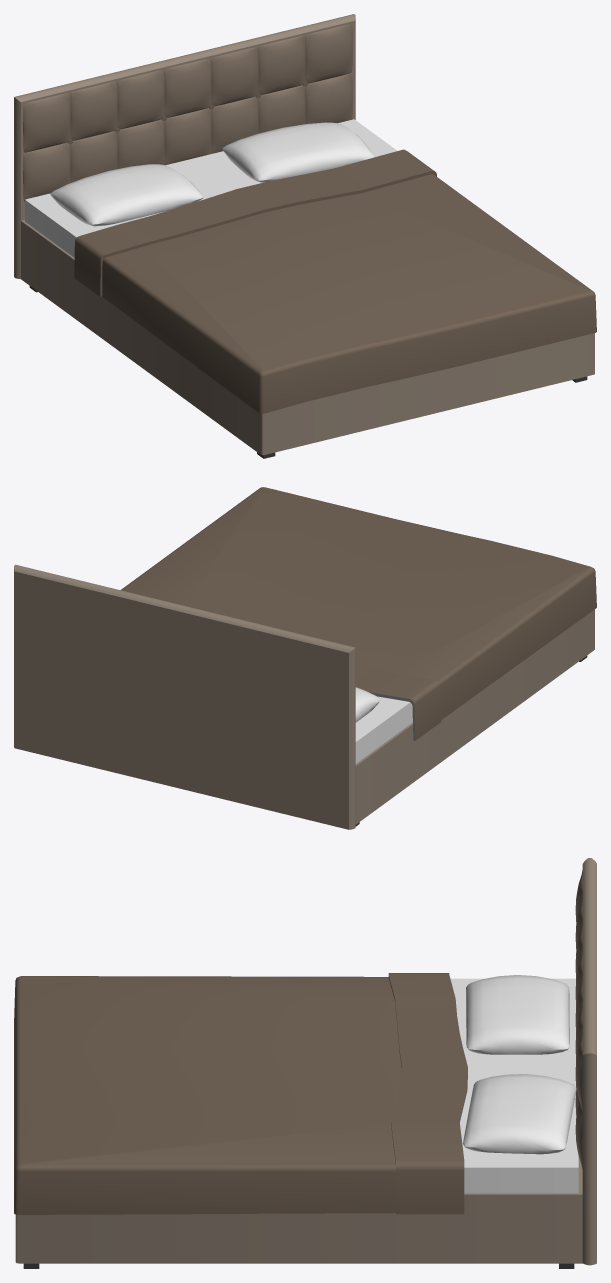
File: Bed3_C3.fbx
The picture shows the model from 3 angles, top to bottom: view 1: azimuth 30°, elevation 25°; view 2: azimuth 150°, elevation 25°; view 3: azimuth 270°, elevation 25°; orthographic projection. The views are drawn at different scales.
Parts seen in each view (by area): view 1: Bed3_C3; view 2: Bed3_C3; view 3: Bed3_C3.
Boxes of the visible parts, bbox=[...] form: Bed3_C3: bbox=[14, 14, 596, 458]; Bed3_C3: bbox=[14, 487, 596, 829]; Bed3_C3: bbox=[14, 858, 596, 1268].
Size of the model in its own units: 163 by 85.69 by 206.
